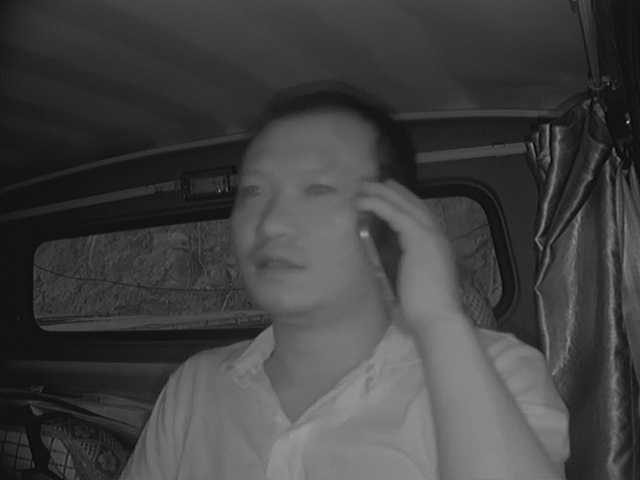hand: (359, 178, 455, 326)
